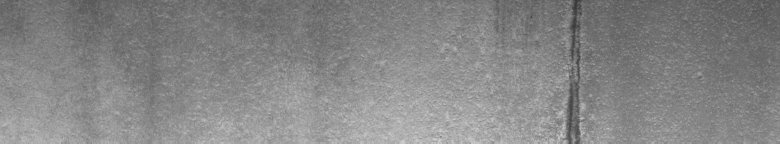hd: (557, 4, 586, 136)
